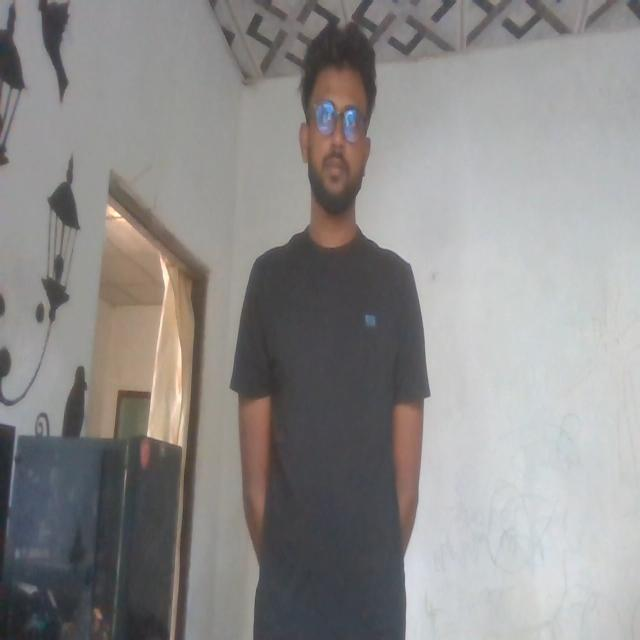Person: (230, 14, 443, 640)
